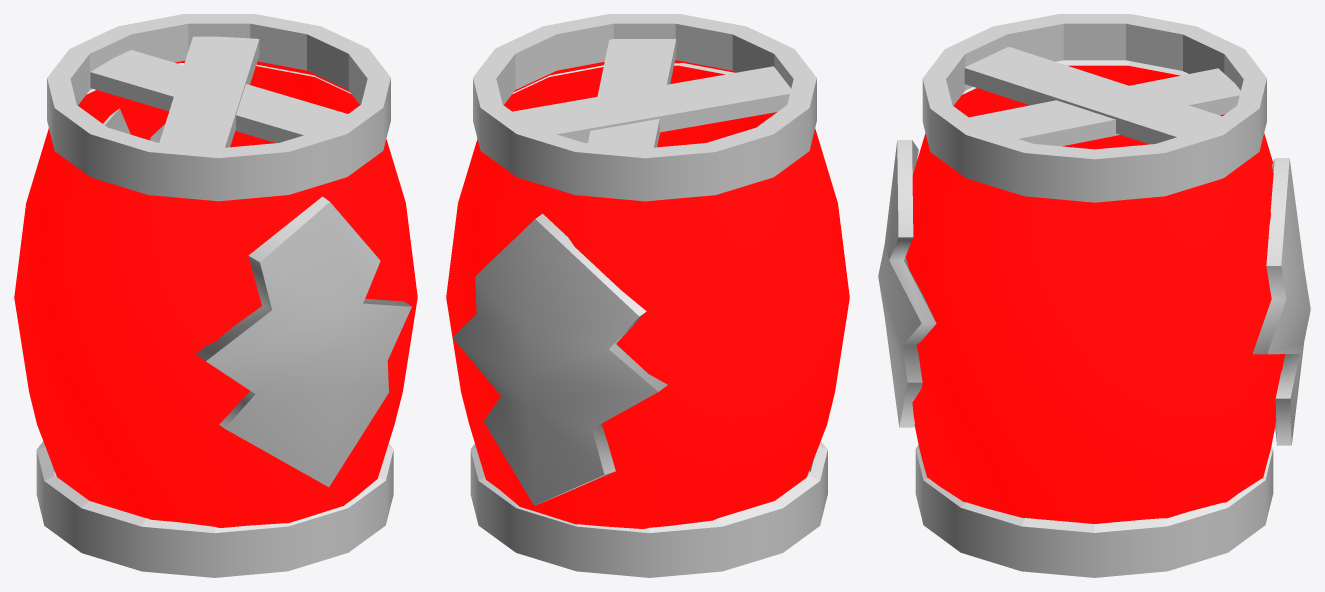
Rendered from Boom_Box.FBX.
3 views of the same model, side by side, from view 1: azimuth 30°, elevation 25°; view 2: azimuth 150°, elevation 25°; view 3: azimuth 270°, elevation 25° (orthographic).
Visible parts, largest first — view 1: Cylinder034, Group087, Box444, Box042, Box442; view 2: Cylinder034, Group087, Box049, Box042, Box442; view 3: Cylinder034, Group087, Box042, Box049, Box444, Box442.
Part boxes in pixels (<box>): Cylinder034: <box>14,60,417,527</box>; Group087: <box>36,14,393,577</box>; Box444: <box>196,196,411,487</box>; Box042: <box>159,36,259,148</box>; Box442: <box>90,50,347,142</box>; Cylinder034: <box>446,60,849,528</box>; Group087: <box>470,14,827,577</box>; Box049: <box>452,213,667,505</box>; Box042: <box>513,66,790,143</box>; Box442: <box>588,39,676,148</box>; Cylinder034: <box>905,65,1284,523</box>; Group087: <box>915,14,1273,577</box>; Box042: <box>964,47,1221,144</box>; Box049: <box>1252,158,1310,445</box>; Box444: <box>878,140,936,427</box>; Box442: <box>969,68,1240,146</box>.
Size of the model in its own units: 15.64 by 17.86 by 16.76.
